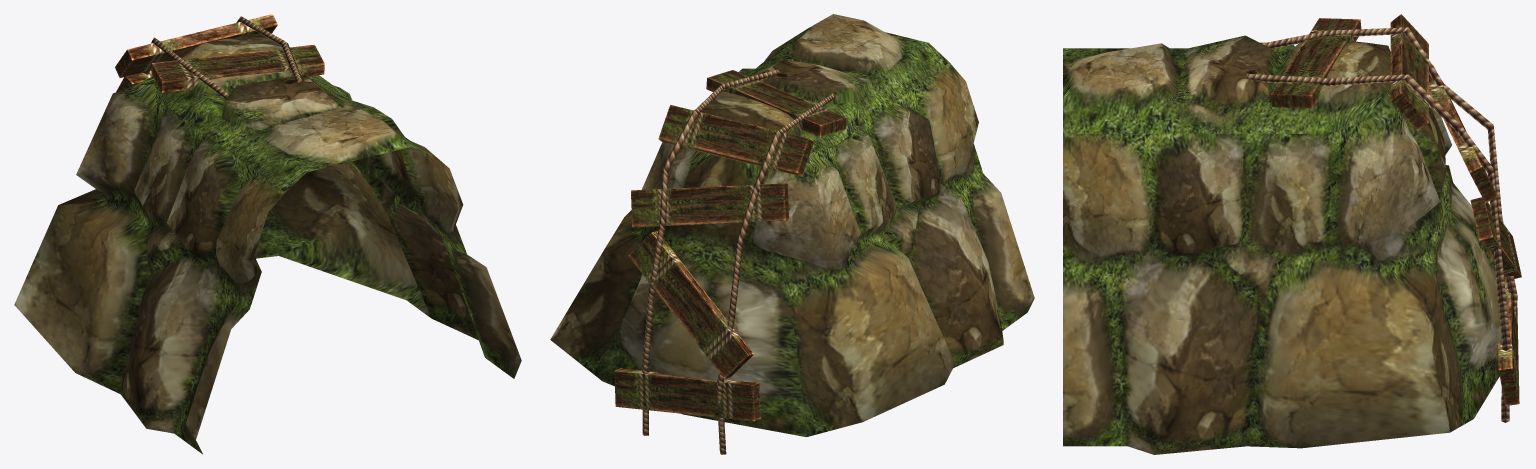
File: StoneRoad02.FBX
3 renders of one model, left to right at view 1: azimuth 30°, elevation 25°; view 2: azimuth 150°, elevation 25°; view 3: azimuth 270°, elevation 25°, orthographic. The views are drawn at different scales.
Visible parts, largest first — view 1: StoneRoad02, BrokenBridge; view 2: StoneRoad02, BrokenBridge; view 3: StoneRoad02, BrokenBridge.
Boxes of the visible parts, x1,y1,x2,y2 form: StoneRoad02: [14, 33, 521, 454]; BrokenBridge: [115, 14, 324, 98]; StoneRoad02: [550, 14, 1034, 437]; BrokenBridge: [614, 69, 846, 454]; StoneRoad02: [1063, 35, 1507, 454]; BrokenBridge: [1246, 14, 1521, 422].
Size of the model in its own units: 505 by 423 by 514.
